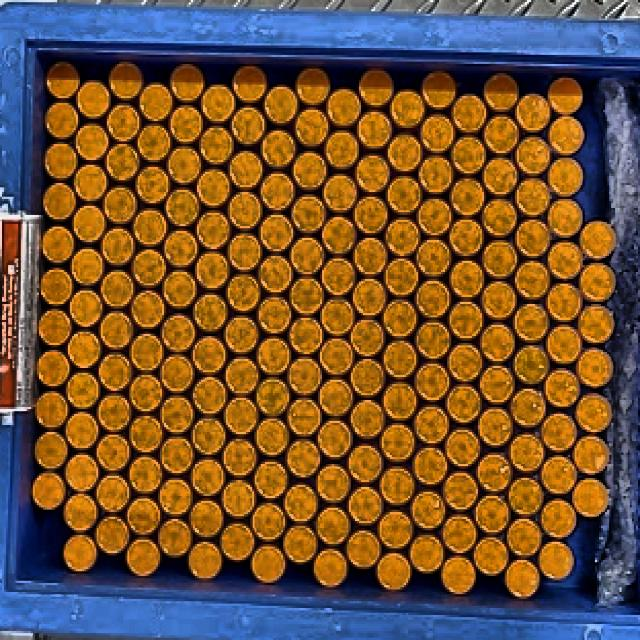vial: (313, 552, 349, 590), (550, 76, 584, 114), (451, 260, 484, 298), (232, 233, 264, 272), (517, 218, 548, 258), (324, 218, 360, 252), (578, 395, 612, 431), (542, 458, 576, 494), (540, 544, 576, 578), (551, 160, 584, 197), (418, 364, 450, 402), (551, 120, 585, 155), (582, 263, 616, 298), (128, 457, 162, 492), (508, 521, 541, 557), (377, 557, 410, 593), (283, 526, 316, 562), (172, 66, 204, 103), (583, 222, 615, 259), (576, 480, 608, 517), (451, 301, 482, 339), (452, 344, 482, 383), (33, 435, 67, 469), (41, 226, 74, 261), (454, 96, 487, 131), (484, 201, 517, 236), (316, 509, 349, 544), (47, 62, 79, 98), (34, 390, 66, 426), (194, 419, 226, 455), (488, 76, 520, 112), (353, 320, 385, 356), (320, 380, 352, 416), (416, 408, 448, 444), (380, 428, 416, 460), (128, 498, 160, 534), (385, 301, 416, 338), (512, 436, 543, 473), (64, 536, 94, 574), (542, 502, 575, 536), (286, 443, 319, 477), (486, 281, 514, 321), (418, 324, 450, 359), (412, 494, 444, 529), (223, 483, 255, 518), (518, 180, 549, 216), (550, 243, 581, 279), (422, 158, 452, 195), (138, 168, 168, 205), (38, 351, 68, 388), (454, 180, 484, 217), (483, 366, 513, 403), (412, 534, 442, 571), (256, 461, 286, 498), (171, 146, 200, 184), (255, 504, 284, 542), (109, 64, 142, 97), (380, 471, 413, 504), (284, 488, 317, 521), (43, 146, 77, 178), (354, 282, 386, 316), (581, 308, 613, 342), (580, 353, 612, 387), (506, 564, 538, 598), (446, 432, 478, 466), (442, 560, 474, 594), (160, 478, 192, 512), (225, 359, 256, 394), (352, 363, 383, 398), (514, 391, 545, 426), (445, 517, 476, 552), (415, 451, 446, 486), (319, 424, 350, 459), (192, 462, 223, 497), (230, 193, 260, 229), (196, 378, 226, 414), (386, 342, 416, 378), (191, 544, 221, 580), (168, 190, 197, 227), (350, 487, 379, 524), (547, 370, 575, 408), (46, 105, 78, 138), (485, 242, 517, 275), (576, 440, 608, 473), (510, 482, 543, 514), (479, 412, 512, 444), (288, 400, 320, 433), (126, 540, 158, 573), (516, 349, 547, 383), (380, 514, 411, 548), (226, 398, 257, 432), (95, 519, 126, 553), (44, 186, 74, 221), (298, 68, 328, 103), (295, 152, 325, 187), (488, 120, 518, 155), (452, 221, 482, 256), (476, 540, 506, 575), (318, 468, 348, 503), (140, 125, 169, 161), (358, 154, 387, 190), (198, 254, 227, 290), (455, 139, 484, 175), (486, 160, 515, 196), (519, 140, 548, 176), (257, 419, 286, 455), (296, 196, 324, 233), (200, 212, 228, 249), (70, 373, 98, 410), (254, 546, 282, 583), (224, 525, 252, 562), (230, 276, 257, 314), (260, 300, 292, 332), (38, 312, 70, 344), (514, 306, 546, 338), (549, 287, 580, 320), (264, 135, 294, 169), (166, 231, 196, 265), (103, 230, 133, 264), (102, 272, 132, 306), (134, 293, 164, 327), (388, 260, 418, 294), (518, 264, 548, 298), (550, 328, 580, 362), (159, 520, 189, 554), (263, 217, 292, 252), (483, 326, 512, 361), (226, 442, 255, 477), (108, 146, 136, 182), (204, 86, 232, 122), (293, 238, 321, 274), (520, 96, 548, 132), (552, 200, 580, 236), (420, 282, 448, 318), (451, 387, 479, 423), (233, 151, 260, 188), (34, 473, 61, 510), (422, 74, 454, 105), (383, 387, 415, 418), (109, 107, 139, 140), (362, 71, 392, 104), (165, 273, 195, 306), (292, 279, 322, 312), (446, 475, 476, 508), (97, 438, 127, 471), (200, 172, 229, 206), (134, 252, 163, 286), (71, 331, 100, 365), (352, 405, 381, 439), (143, 87, 171, 122), (79, 124, 107, 159), (330, 92, 358, 127), (361, 112, 389, 147), (137, 210, 165, 245), (233, 110, 263, 142), (40, 272, 70, 304), (72, 294, 102, 326), (99, 397, 129, 429), (545, 416, 575, 448), (479, 456, 509, 488), (349, 450, 381, 480), (66, 414, 96, 446), (172, 109, 201, 142), (389, 179, 418, 212), (477, 499, 506, 532), (65, 497, 94, 530), (297, 112, 325, 146), (264, 174, 292, 208), (390, 220, 418, 254), (323, 338, 351, 372), (99, 478, 127, 512), (204, 129, 231, 164), (292, 318, 319, 353), (164, 397, 191, 432), (266, 89, 296, 120), (226, 319, 256, 350), (102, 315, 132, 346), (259, 340, 288, 372), (192, 502, 221, 534), (68, 456, 97, 488), (80, 84, 108, 117), (328, 134, 356, 167), (358, 236, 386, 269), (425, 118, 453, 151), (290, 359, 318, 392), (132, 377, 160, 410), (78, 168, 105, 202), (163, 438, 190, 472), (328, 175, 354, 210), (195, 340, 223, 372), (134, 336, 162, 368), (102, 357, 130, 389), (164, 358, 192, 390), (197, 297, 223, 331), (421, 241, 446, 276), (358, 199, 388, 228), (132, 420, 161, 450), (107, 189, 135, 220), (394, 94, 422, 125), (424, 201, 451, 233), (264, 260, 291, 292), (259, 380, 286, 412), (393, 136, 418, 170), (165, 318, 193, 348), (351, 534, 376, 567), (325, 262, 352, 292), (324, 300, 351, 330), (76, 208, 101, 240), (76, 250, 100, 283), (236, 69, 262, 95)
